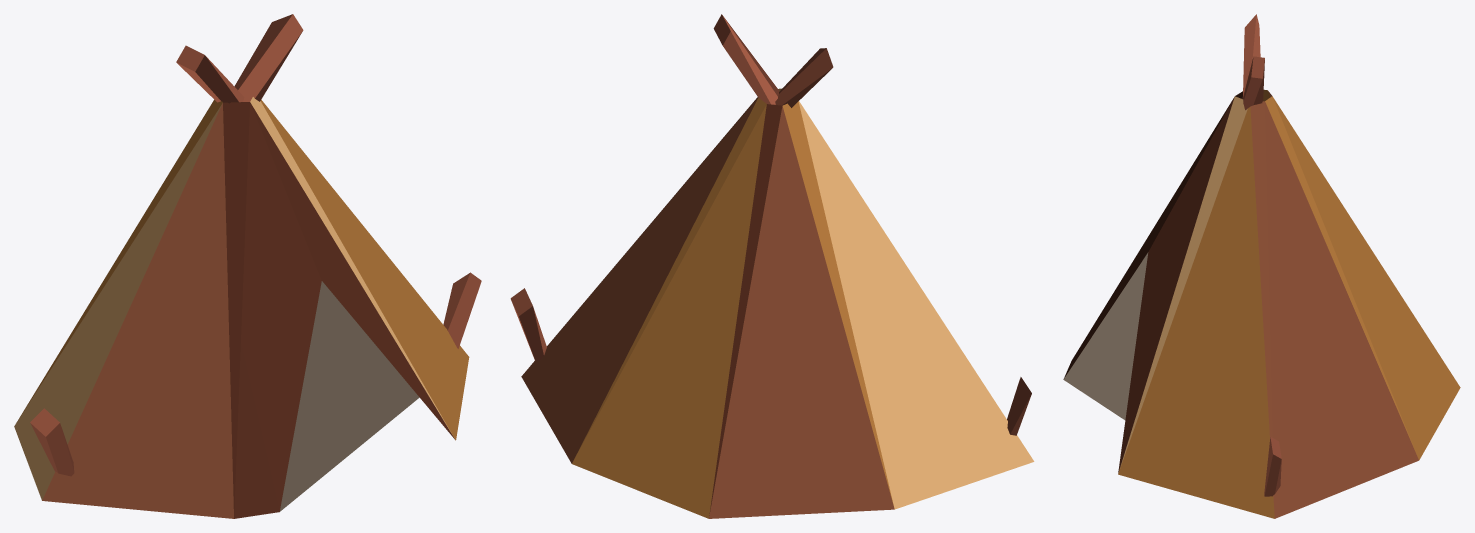
Rendered from tent.fbx.
3 views of the same model, side by side, from view 1: azimuth 30°, elevation 25°; view 2: azimuth 150°, elevation 25°; view 3: azimuth 270°, elevation 25° (orthographic). The views are drawn at different scales.
Parts seen in each view (by area): view 1: Cone, Cube.001, Cube.000, Cube.002, Cube.003; view 2: Cone, Cube.001, Cube.000, Cube.003, Cube.002; view 3: Cone, Cube.001, Cube.000, Cube.003.
Boxes of the visible parts, <box> form: Cone: <box>14,97,469,518</box>; Cube.001: <box>234,14,303,101</box>; Cube.000: <box>176,45,244,103</box>; Cube.002: <box>30,408,74,476</box>; Cube.003: <box>443,272,481,348</box>; Cone: <box>521,88,1034,518</box>; Cube.001: <box>713,14,779,104</box>; Cube.000: <box>775,48,833,107</box>; Cube.003: <box>510,288,546,360</box>; Cube.002: <box>1007,377,1031,435</box>; Cone: <box>1063,89,1460,518</box>; Cube.001: <box>1243,56,1264,110</box>; Cube.000: <box>1243,14,1260,96</box>; Cube.003: <box>1264,437,1281,496</box>.
Bounding box in the file's own units: 257 × 201 × 193.
